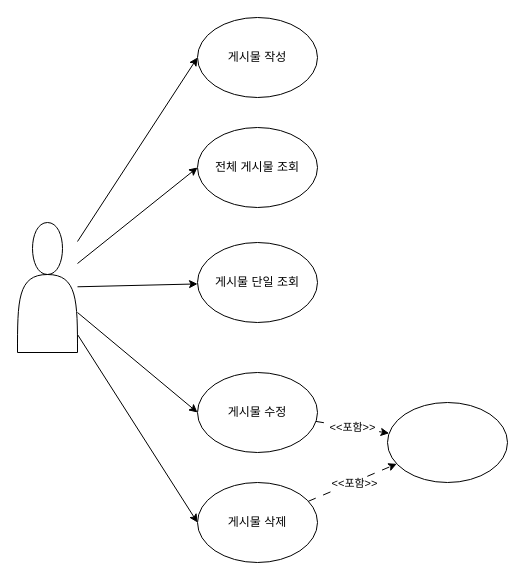
The diagram is 525 pixels wide and 580 high, and some of its shapes have lost their labels. Each missing label, with the box of its shape:
User: (16, 222, 78, 352)
비밀번호 검증: (386, 402, 508, 482)
